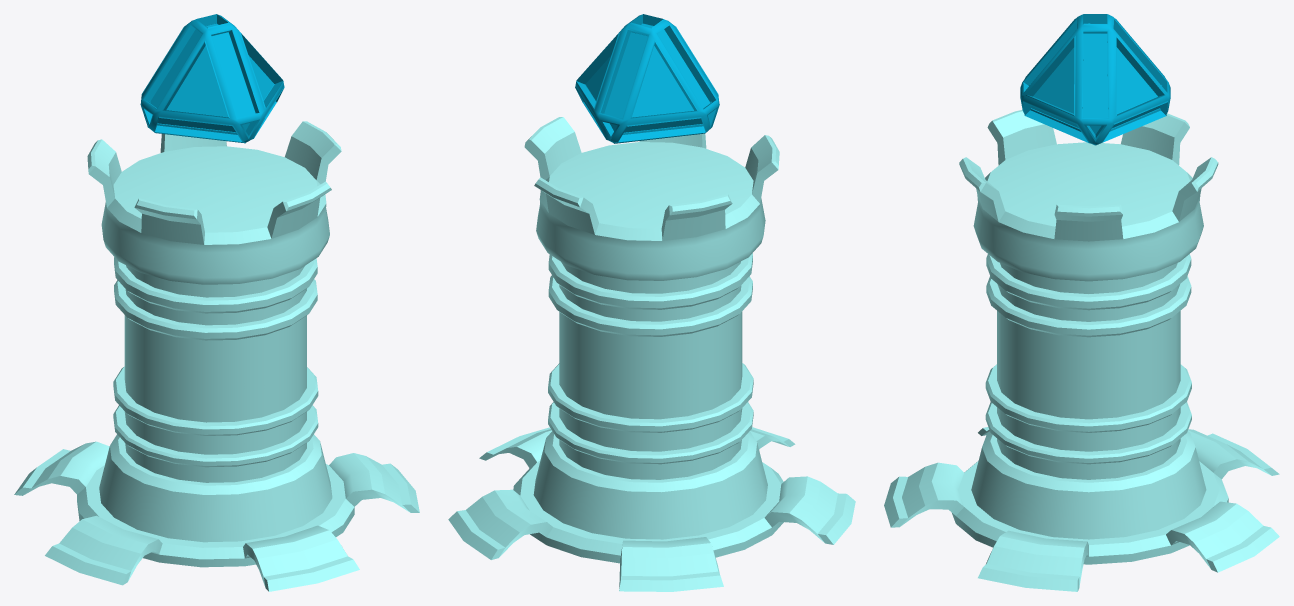
3 renders of one model, left to right at view 1: azimuth 30°, elevation 25°; view 2: azimuth 150°, elevation 25°; view 3: azimuth 270°, elevation 25°, orthographic.
Parts seen in each view (by area): view 1: Tower, Crystal_3; view 2: Tower, Crystal_3; view 3: Tower, Crystal_3.
Boxes of the visible parts, x1,y1,x2,y2 form: Tower: (14,121,419,591); Crystal_3: (140,14,284,143); Tower: (448,117,855,591); Crystal_3: (575,14,719,143); Tower: (884,109,1279,591); Crystal_3: (1020,14,1170,145).
Size of the model in its own units: 1.15 by 1.51 by 1.12.
